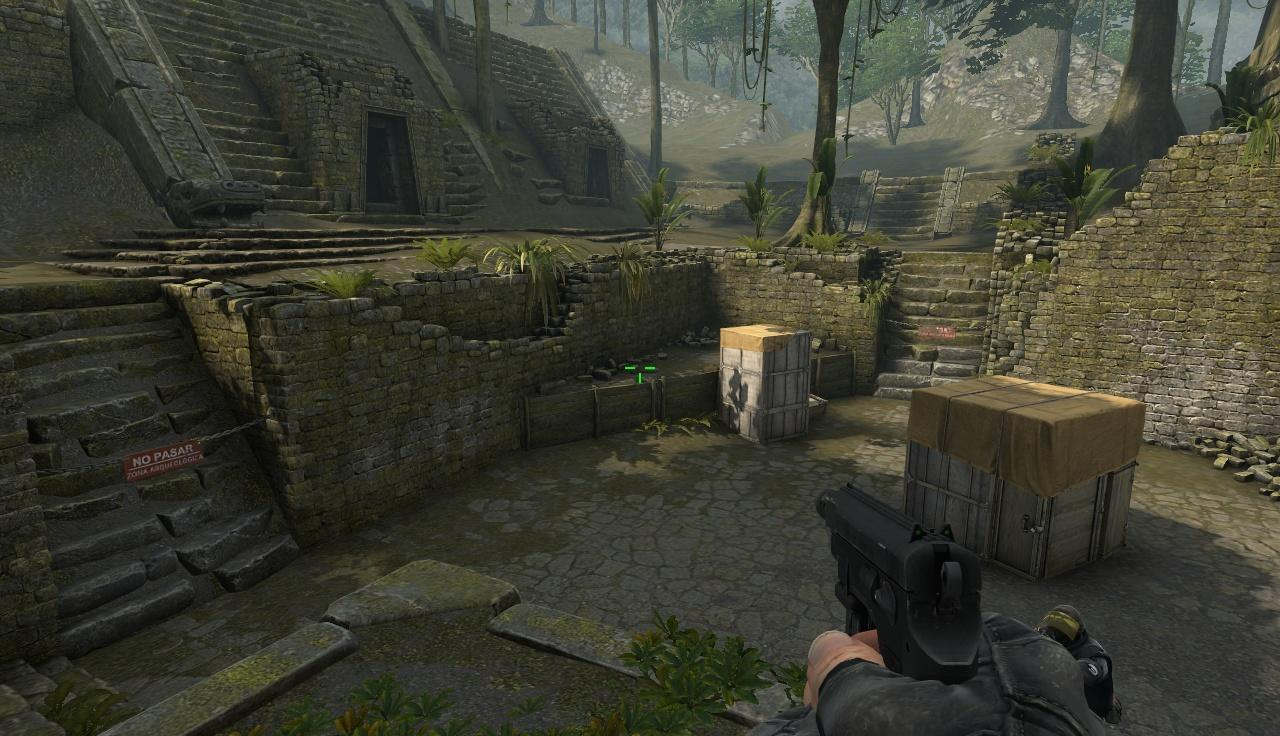cthead: (1043, 603, 1086, 644)
pistol: (810, 491, 992, 736)
